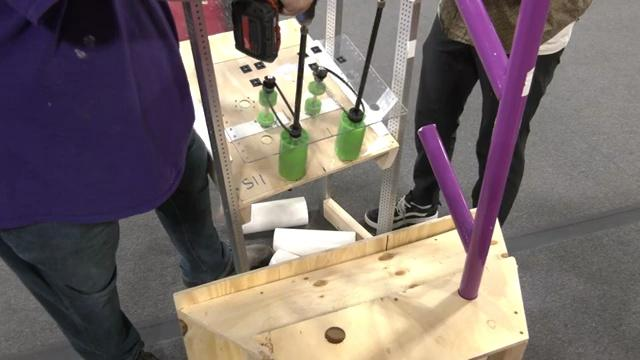CORAL: (242, 198, 310, 233), (273, 228, 355, 255)
